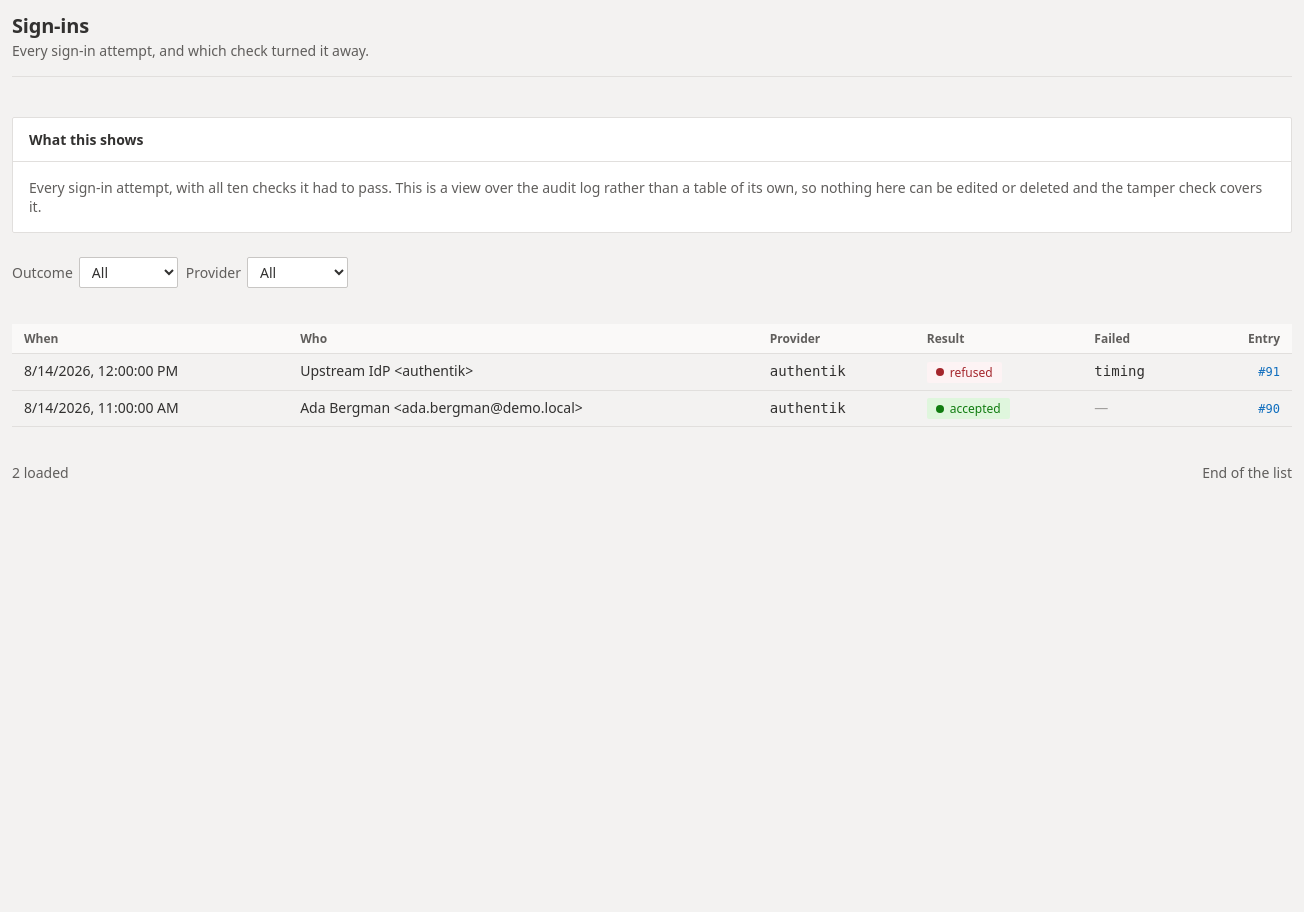
Test: an accepted attempt says why nothing was kept
The width and height of the screenshot is (1304, 912).
Step 1. Click the button "#90" → (1269, 408), box x1=1258 y1=402 x2=1280 y2=416
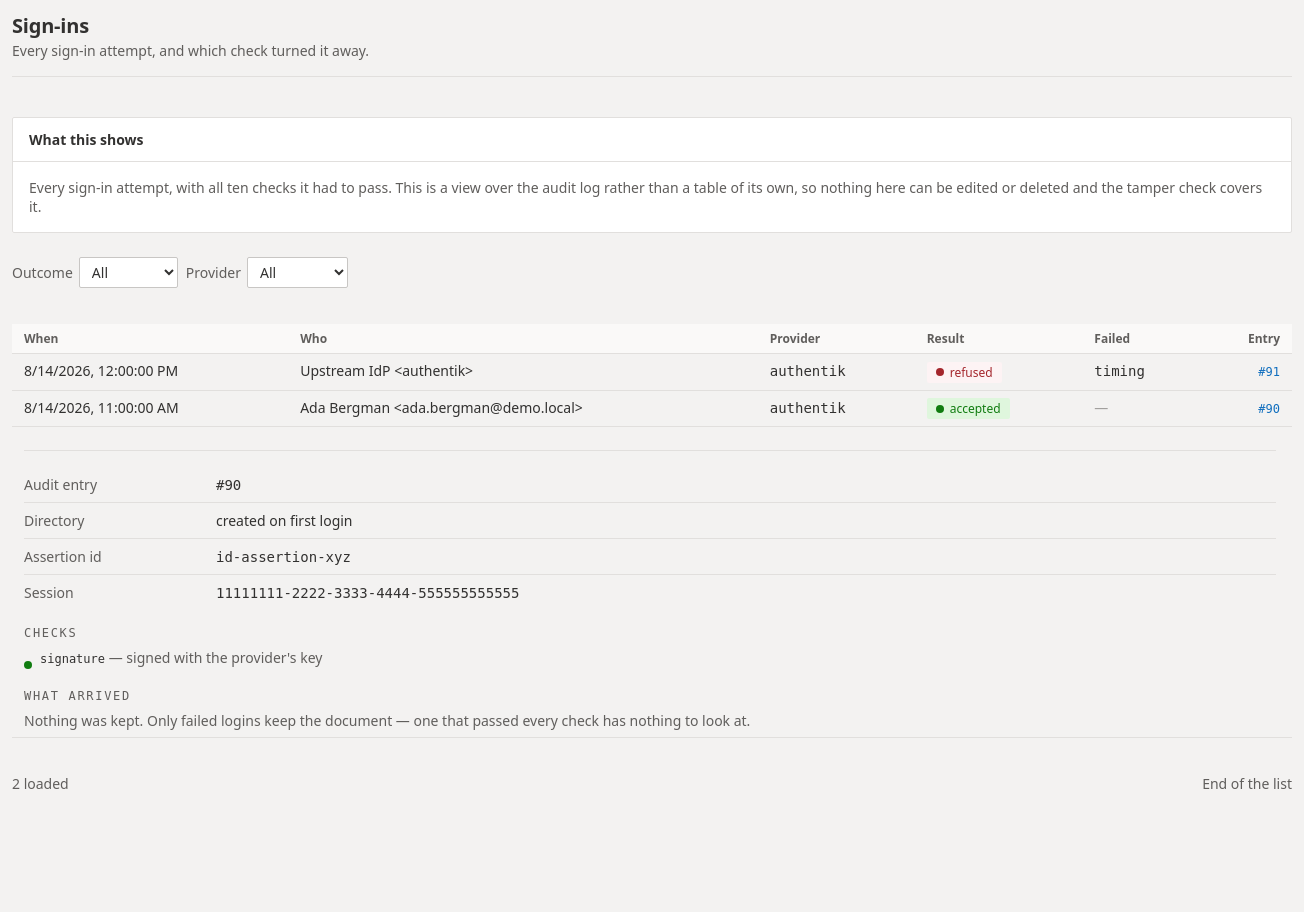
Check: the text "Only failed logins keep the document" is shown, box x1=24 y1=711 x2=750 y2=730
